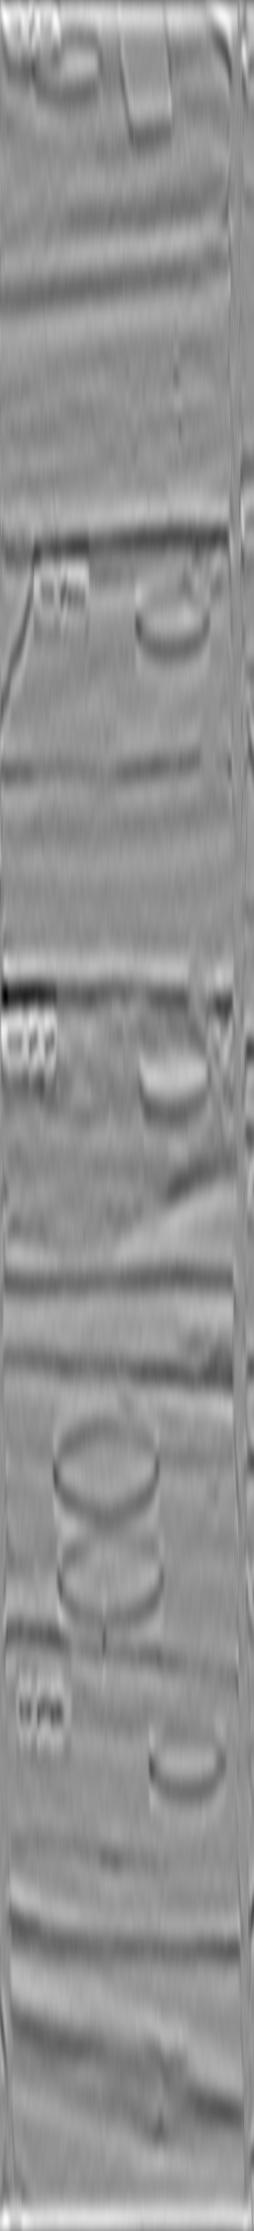hplug: (131, 1032, 221, 1115), (138, 1717, 228, 1801), (131, 576, 216, 660), (23, 18, 109, 97)
scal: (45, 1411, 167, 1522), (45, 1527, 172, 1632)
vplug: (33, 987, 123, 1127), (111, 1, 192, 148)
